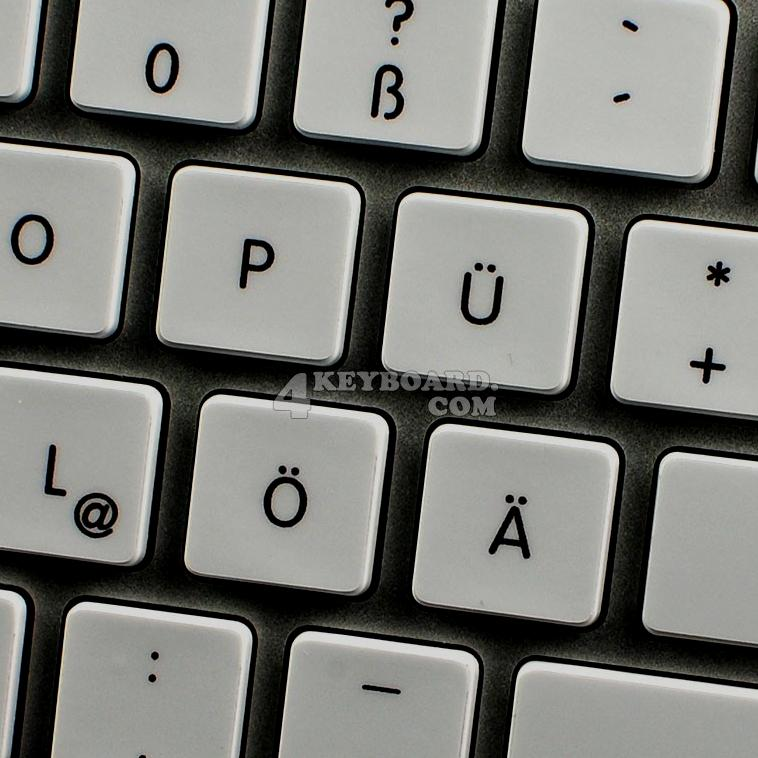0: (66, 1, 272, 131)
accent: (517, 1, 733, 186)
ae: (411, 416, 620, 629)
l: (1, 361, 166, 569)
minus: (282, 620, 484, 758)
o: (1, 129, 137, 341)
oe: (183, 383, 391, 600)
p: (150, 159, 364, 368)
plus: (608, 210, 758, 423)
point: (48, 591, 257, 758)
ss: (290, 1, 501, 159)
ue: (375, 182, 594, 405)
